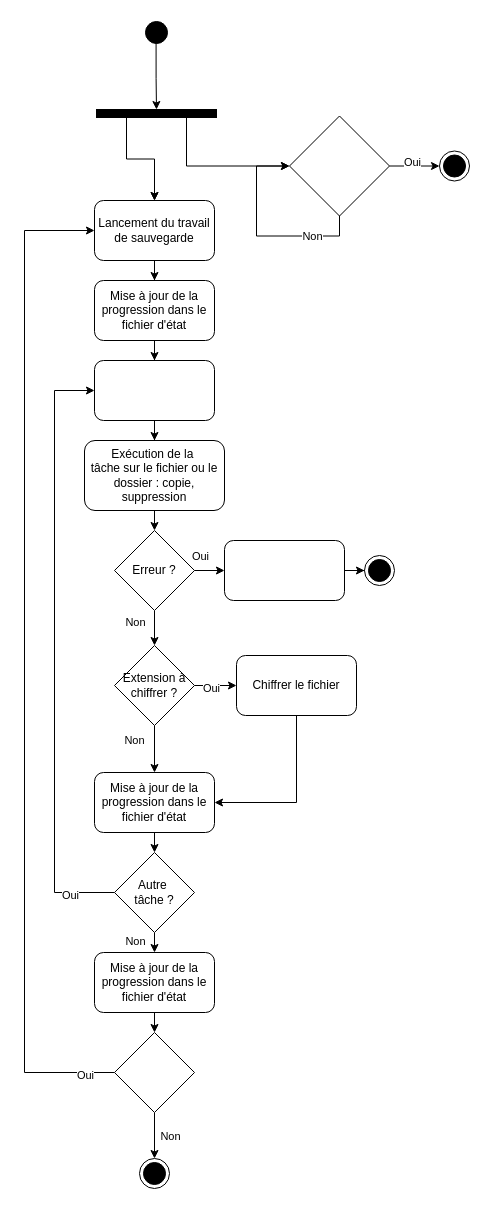
This 487x1206 diagram has some shape labels left out. Here are the shapes that lost their labels. From the top down, the centre of each, then its label:
the point at 339,165: Processus métier lancé ?
the point at 154,390: Lancement d'une tâche de sauvegarde
the point at 284,570: Affiche un message d'erreur
the point at 154,1072: Autre travail ?
